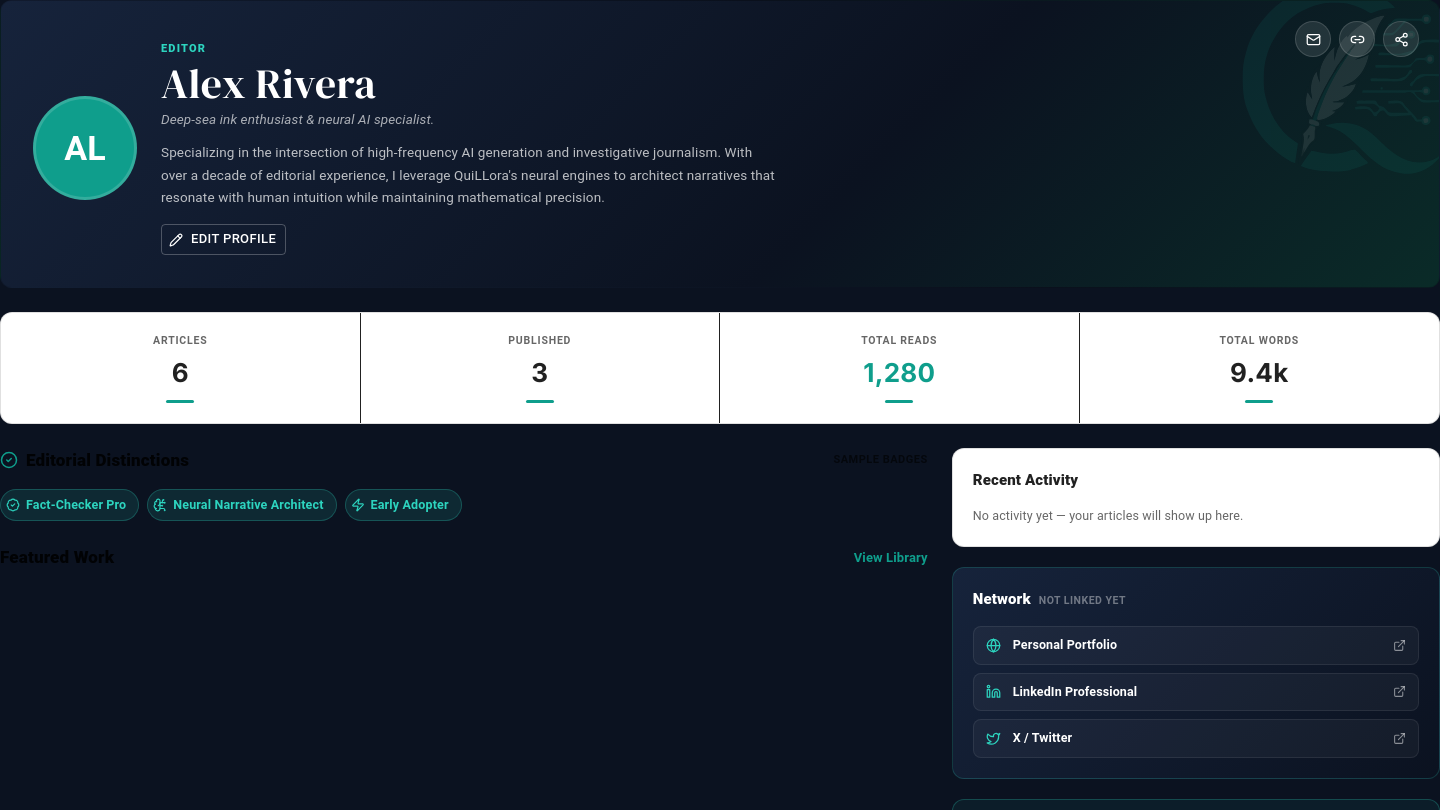
Profile — saving › surfaces a save failure instead of closing as if it worked
Expected: the text "Alex Rivera" is shown, left=161, top=54, right=376, bottom=112
Click the button "Edit Profile": (224, 240) left=161, top=224, right=286, bottom=255
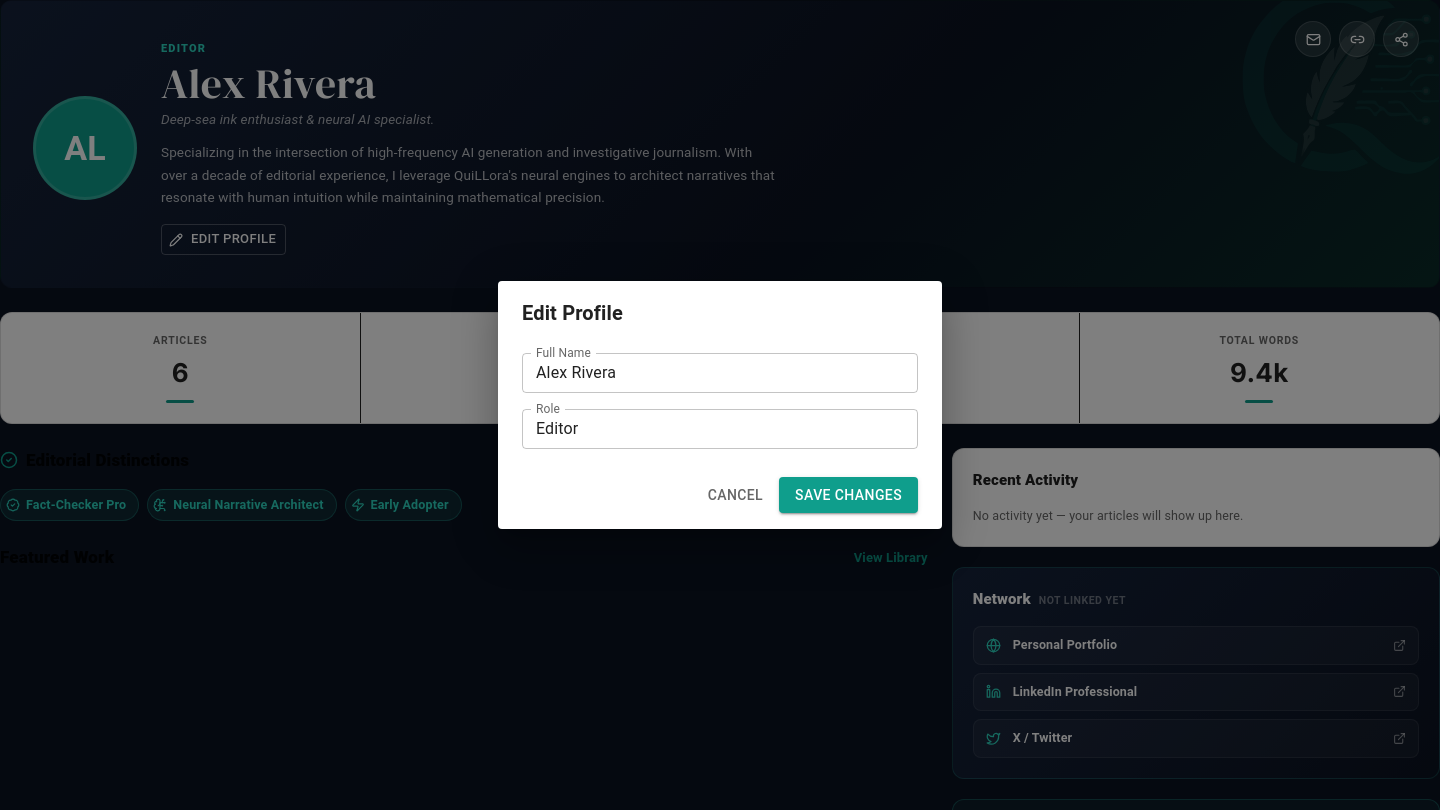
Click the button "Save Changes": (849, 495) left=779, top=477, right=918, bottom=513
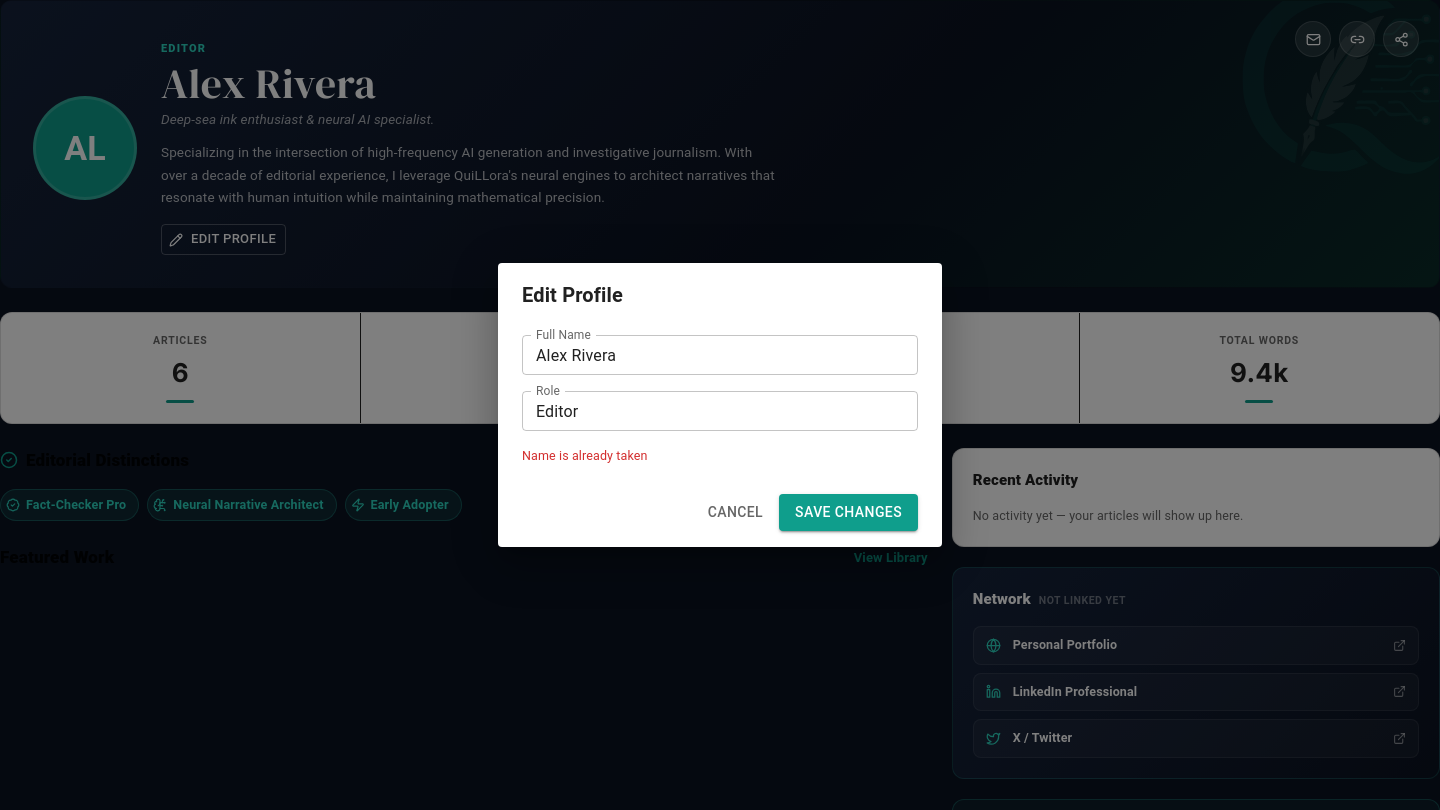
Expected: the dialog is shown, left=498, top=263, right=942, bottom=547
Expected: the text "Name is already taken" is shown, left=522, top=448, right=648, bottom=463
